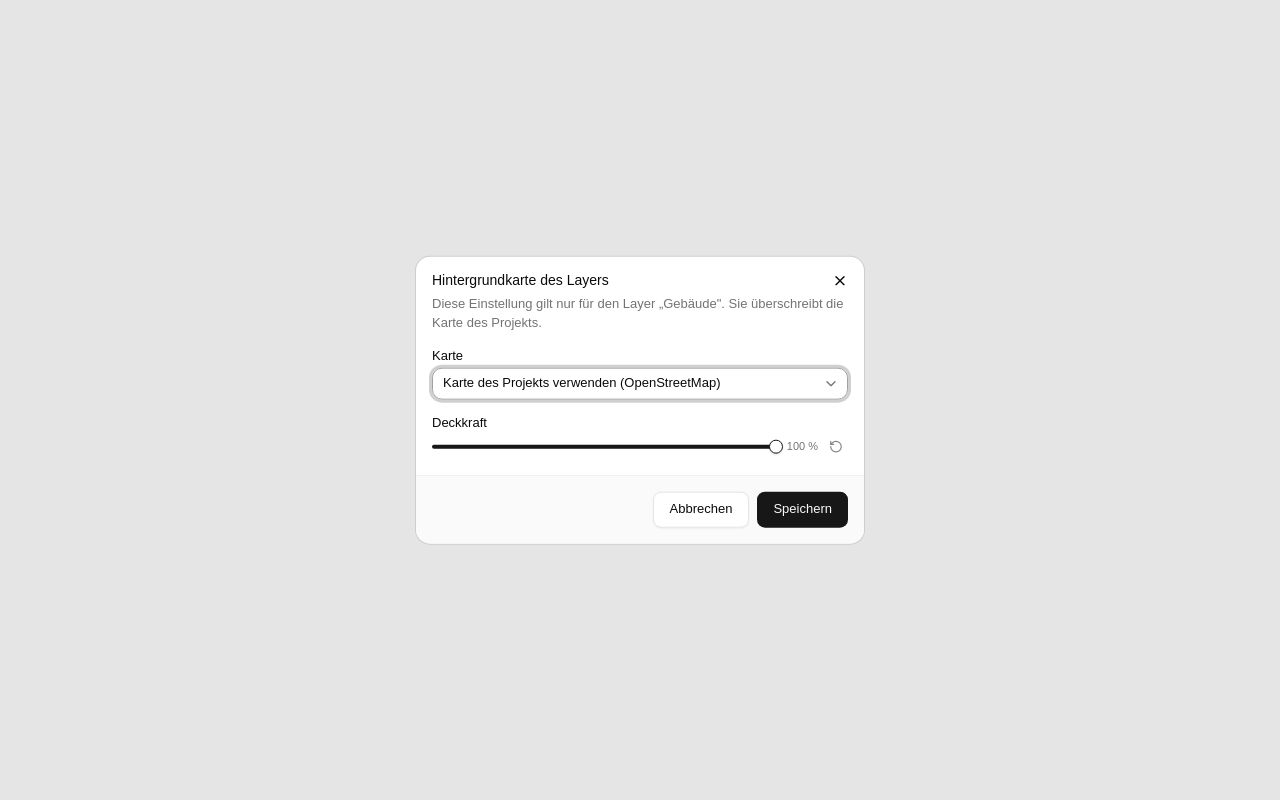
Test: LayerBasemapDialog › markiert einen abgekündigten Dienst
Step 1. Click the dropdown labelled "Karte" → (640, 383), box [432,367,848,399]
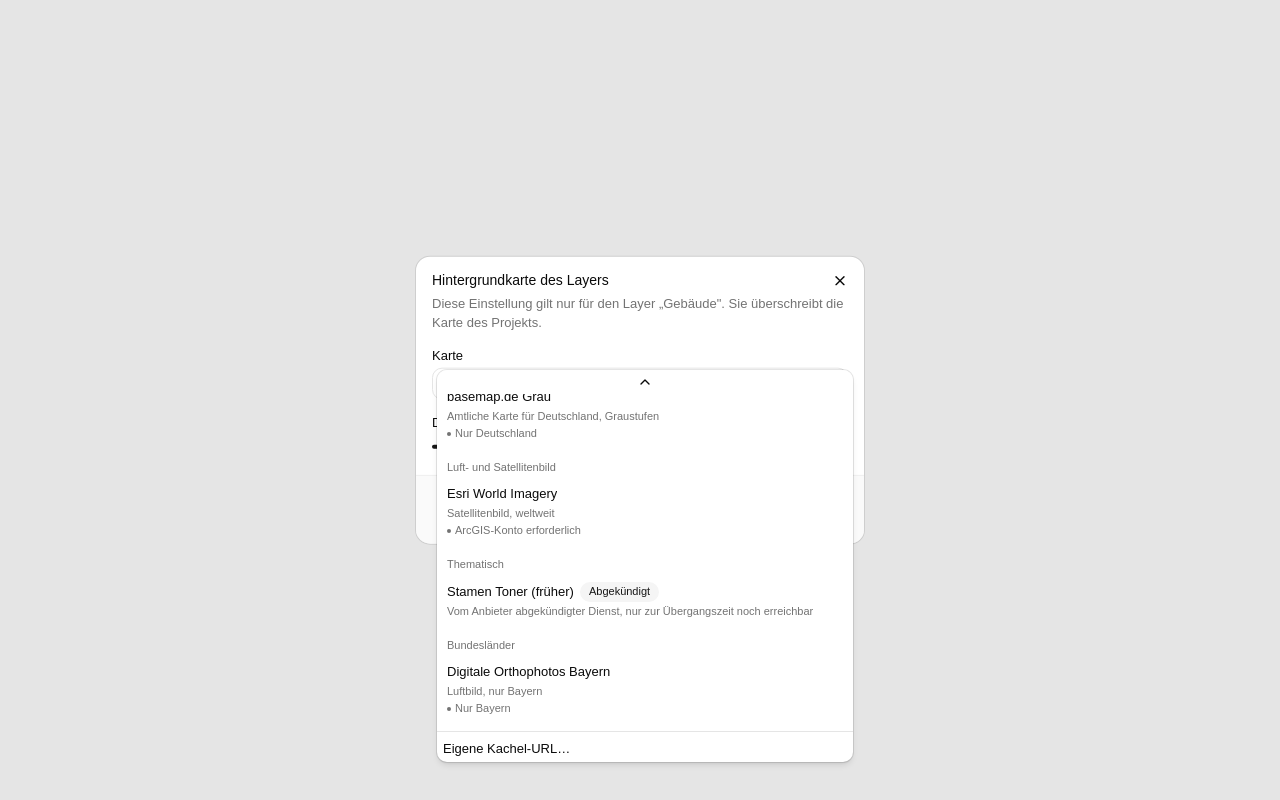
Expected: the option "Stamen Toner" shows "Abgekündigt", [441,576,849,626]
